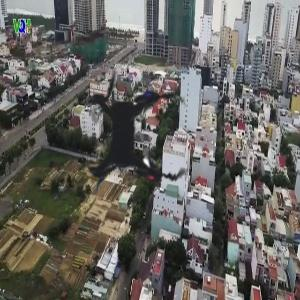drone: (15, 18, 242, 245)
